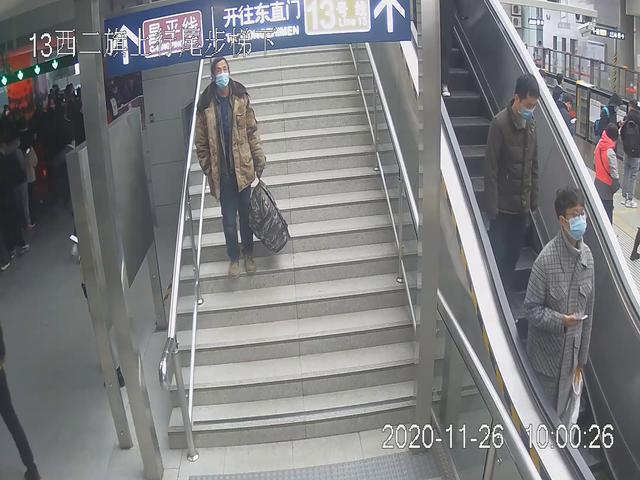person: (191, 53, 291, 284), (518, 186, 598, 445), (482, 71, 541, 307)
